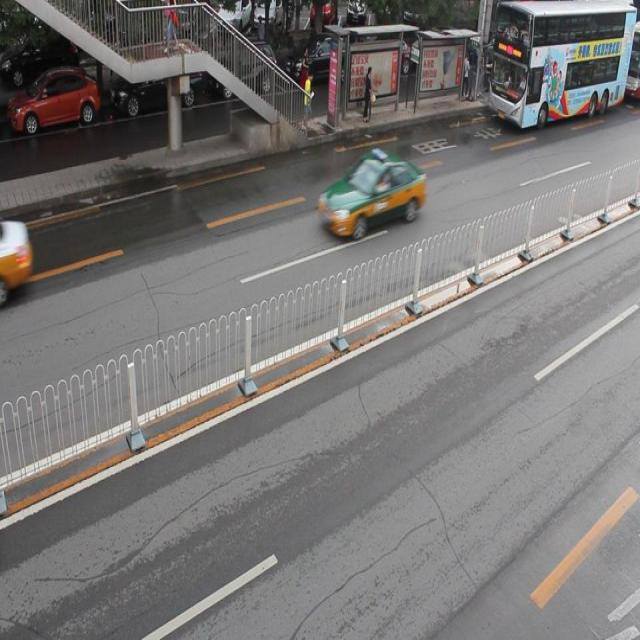car: (320, 150, 426, 238), (110, 49, 201, 116), (11, 70, 100, 134), (211, 38, 277, 101), (284, 32, 353, 89)
van: (485, 1, 632, 127)
